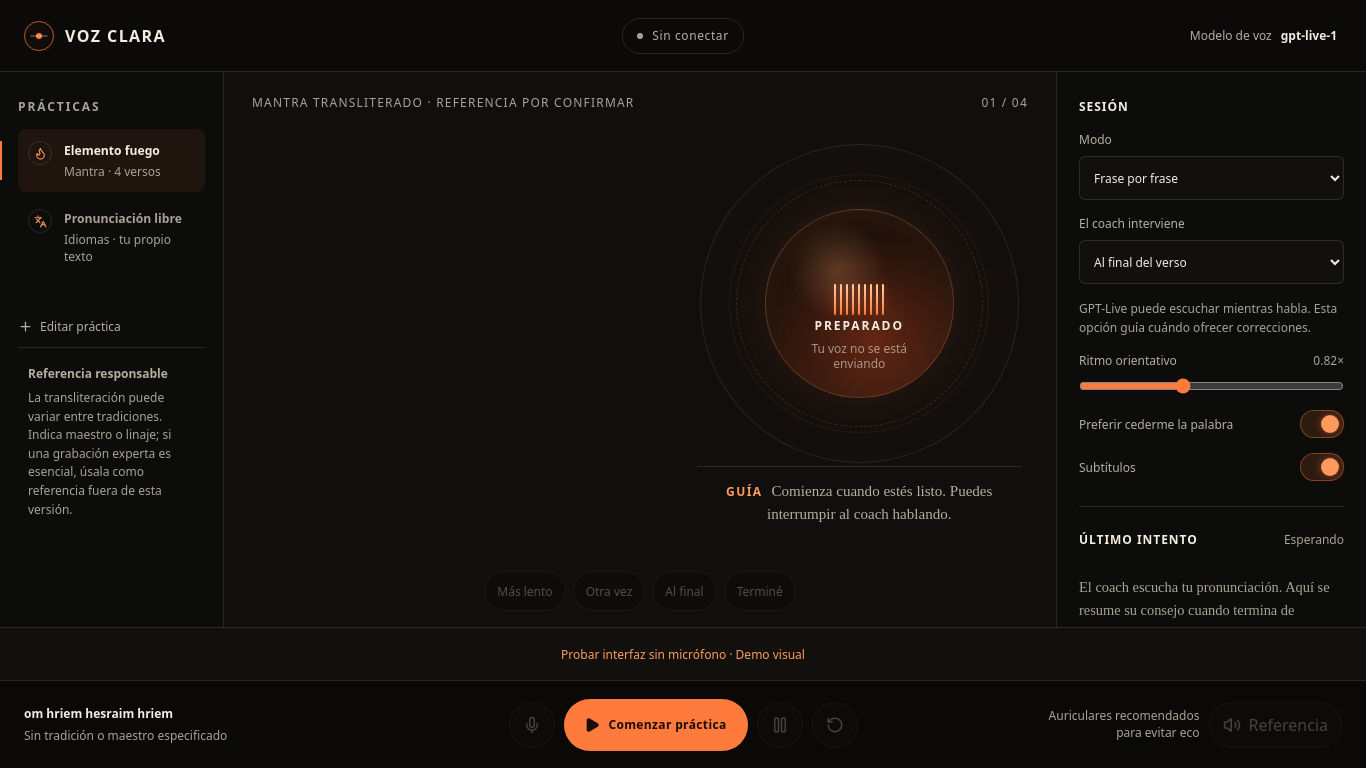
it: VoiceStudio › exits connecting when the microphone permission never resolves
Click the button "Comenzar práctica".
click(656, 724)  # box [564,698,748,750]
Wait 15000 ms
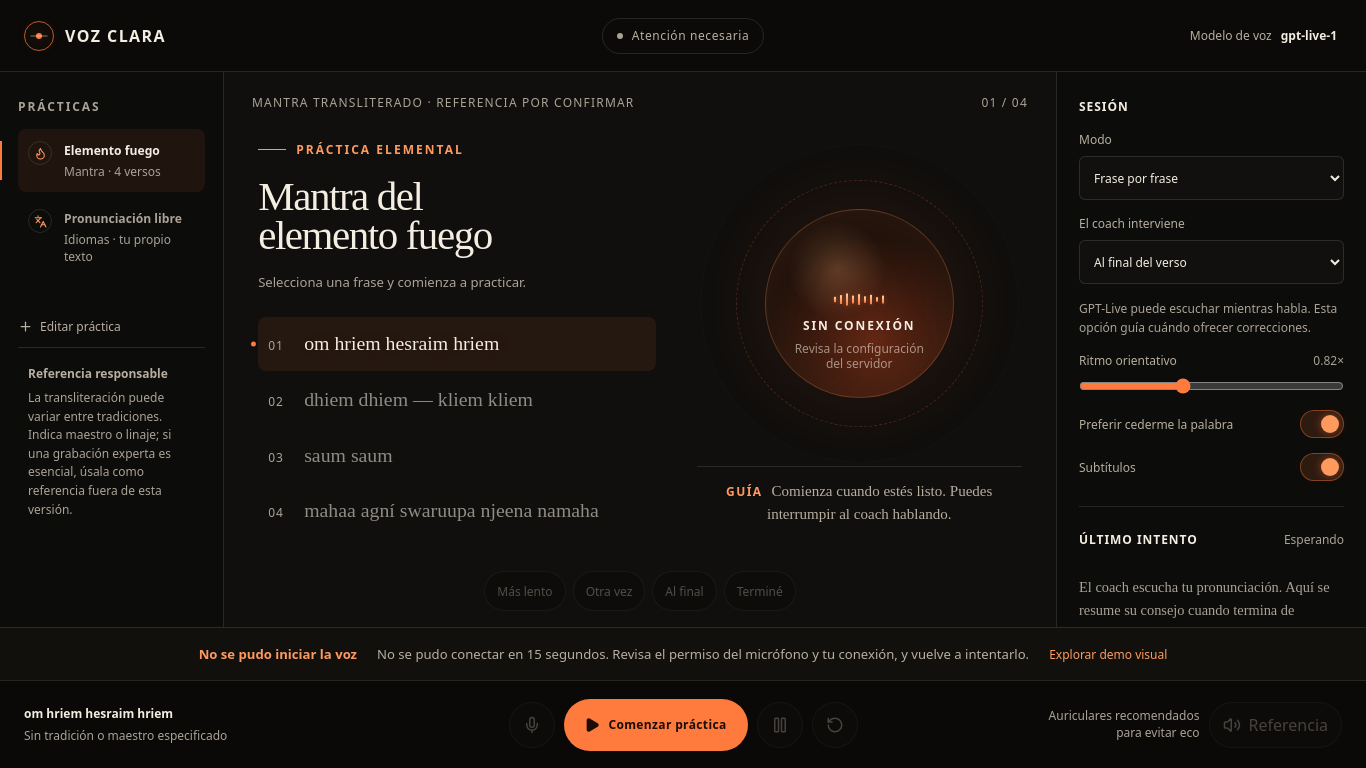
expect the message that starts with "No se pudo iniciar la voz" shows "15 segundos": met, box [377,645,1029,663]
